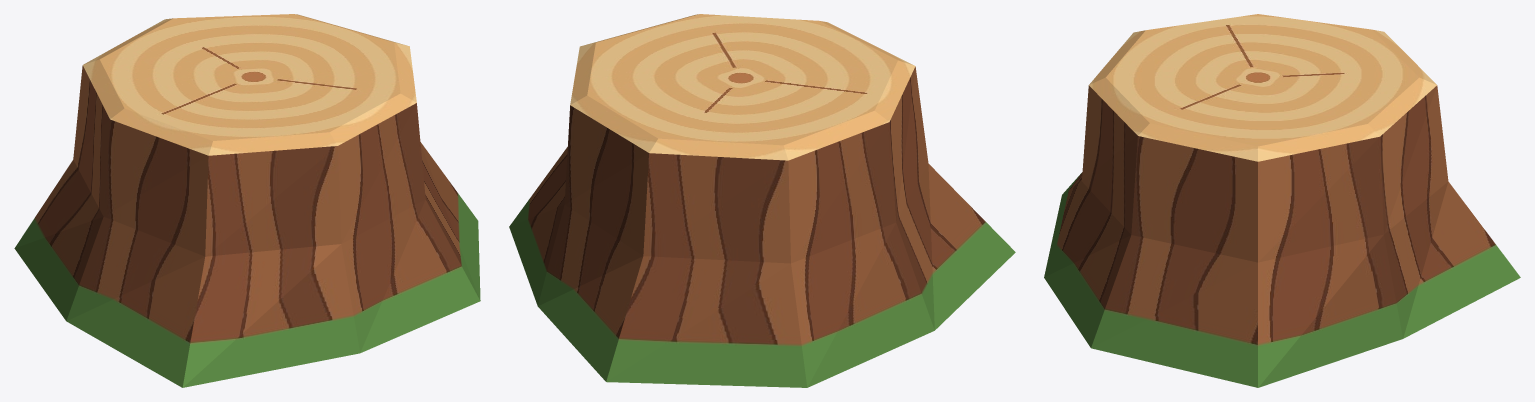
File: stump_lod.gltf
The picture shows the model from 3 angles, left to right: view 1: azimuth 30°, elevation 25°; view 2: azimuth 150°, elevation 25°; view 3: azimuth 270°, elevation 25°; orthographic projection. The views are drawn at different scales.
Parts seen in each view (by area): view 1: stump_mesh; view 2: stump_mesh; view 3: stump_mesh.
Part boxes in pixels (x1,y1,x2,y2): stump_mesh: (14,14,480,387); stump_mesh: (509,14,1015,387); stump_mesh: (1044,14,1520,387).
Bounding box in the file's own units: 0.8028 × 0.37 × 0.7992.
Materials: 1 (1 with a texture image).
